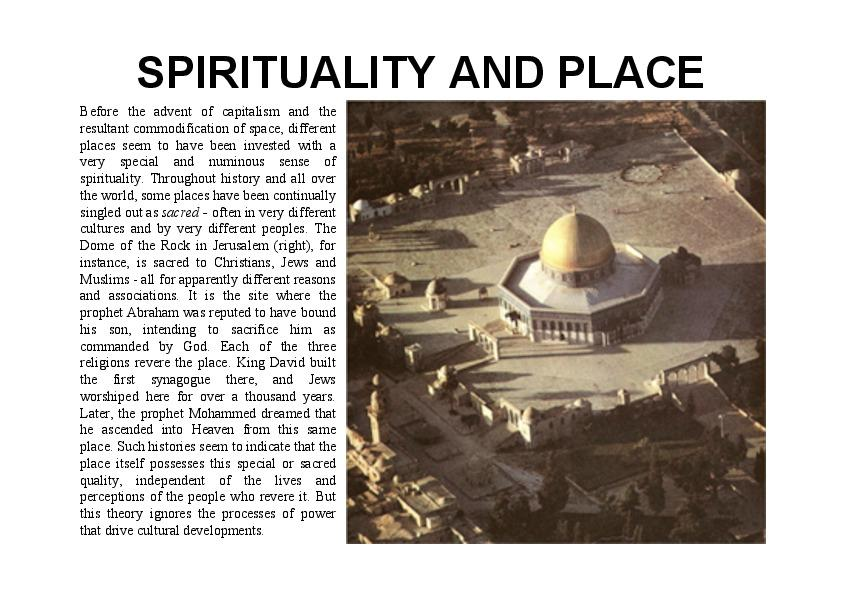paragraph: (71, 97, 342, 545)
title: (125, 49, 718, 95)
